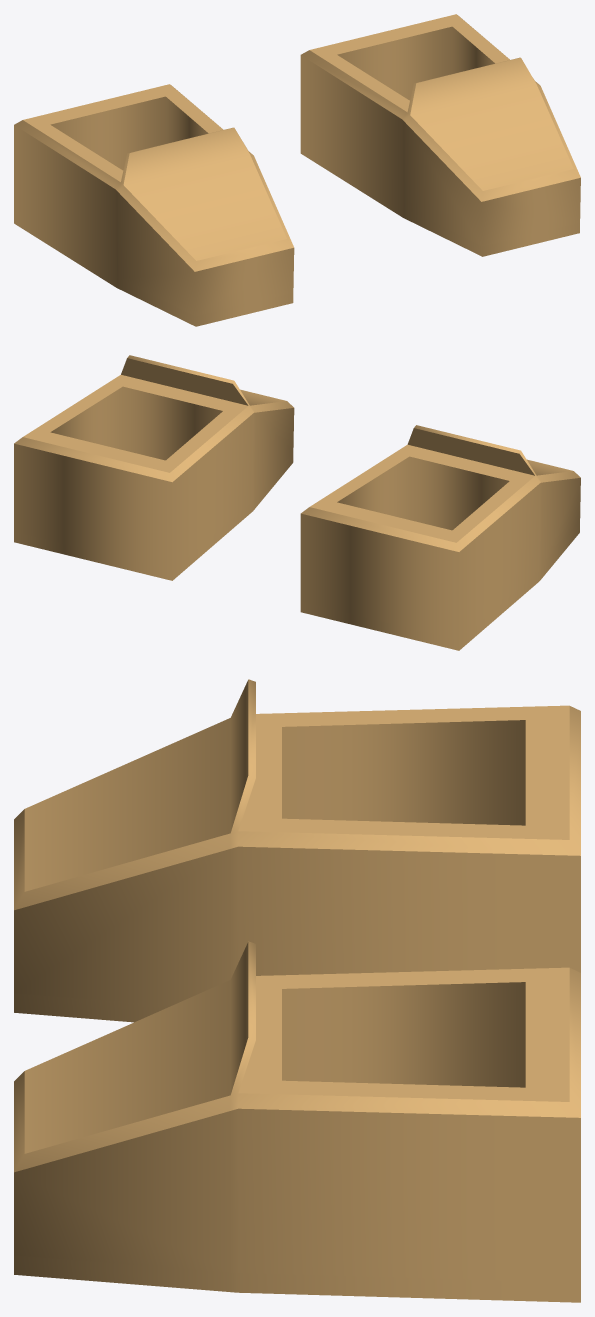
Rendered from sapato.fbx.
3 views of the same model, one above another, from view 1: azimuth 30°, elevation 25°; view 2: azimuth 150°, elevation 25°; view 3: azimuth 270°, elevation 25° (orthographic). The views are drawn at different scales.
Visible parts, largest first — view 1: sapato; view 2: sapato; view 3: sapato.
Boxes of the visible parts, box(x1,y1,x2,y2) form: sapato: box(14, 14, 580, 326); sapato: box(14, 355, 580, 650); sapato: box(14, 679, 580, 1302).
Size of the model in its own units: 19.58 by 5.41 by 11.53.
